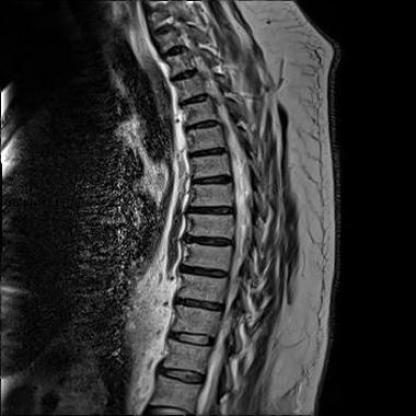Osteophytesrotation: (133, 1, 240, 415)
